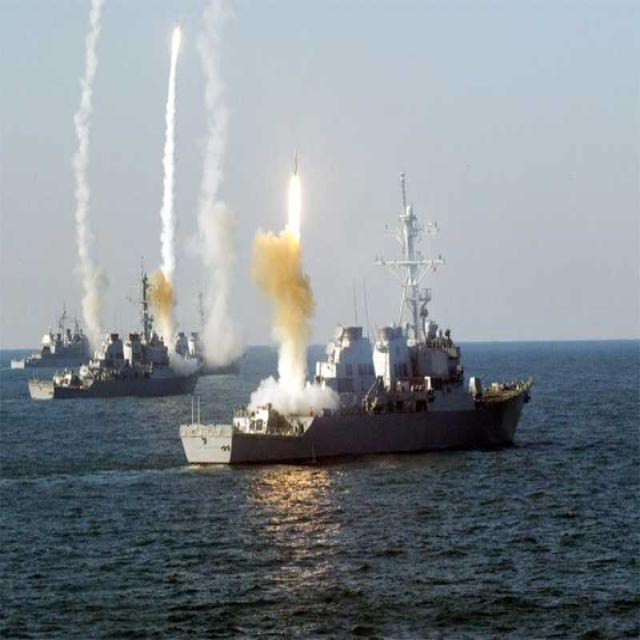missile: (291, 141, 298, 177)
